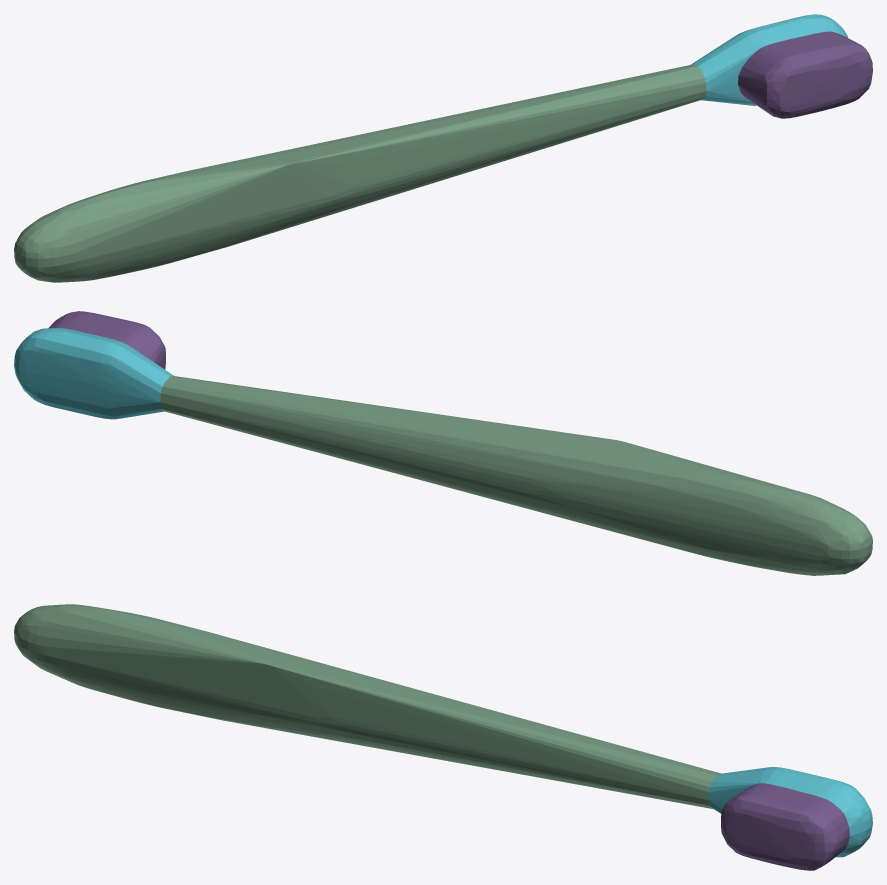
The model's file is coacd_collision.obj.
The picture shows the model from 3 angles, top to bottom: view 1: azimuth 30°, elevation 25°; view 2: azimuth 150°, elevation 25°; view 3: azimuth 330°, elevation 25°; orthographic projection.
Parts seen in each view (by area): view 1: geometry_0, geometry_1, geometry_2; view 2: geometry_0, geometry_2, geometry_1; view 3: geometry_0, geometry_1, geometry_2.
Boxes of the visible parts, x1=… form: geometry_0: x1=14, y1=64, x2=706, y2=282; geometry_1: x1=738, y1=31, x2=872, y2=118; geometry_2: x1=691, y1=14, x2=848, y2=105; geometry_0: x1=160, y1=376, x2=872, y2=575; geometry_2: x1=14, y1=328, x2=173, y2=419; geometry_1: x1=48, y1=311, x2=165, y2=369; geometry_0: x1=14, y1=604, x2=720, y2=808; geometry_1: x1=721, y1=783, x2=849, y2=870; geometry_2: x1=708, y1=767, x2=872, y2=857.
Bounding box in the file's own units: 182 × 17.37 × 18.38.
